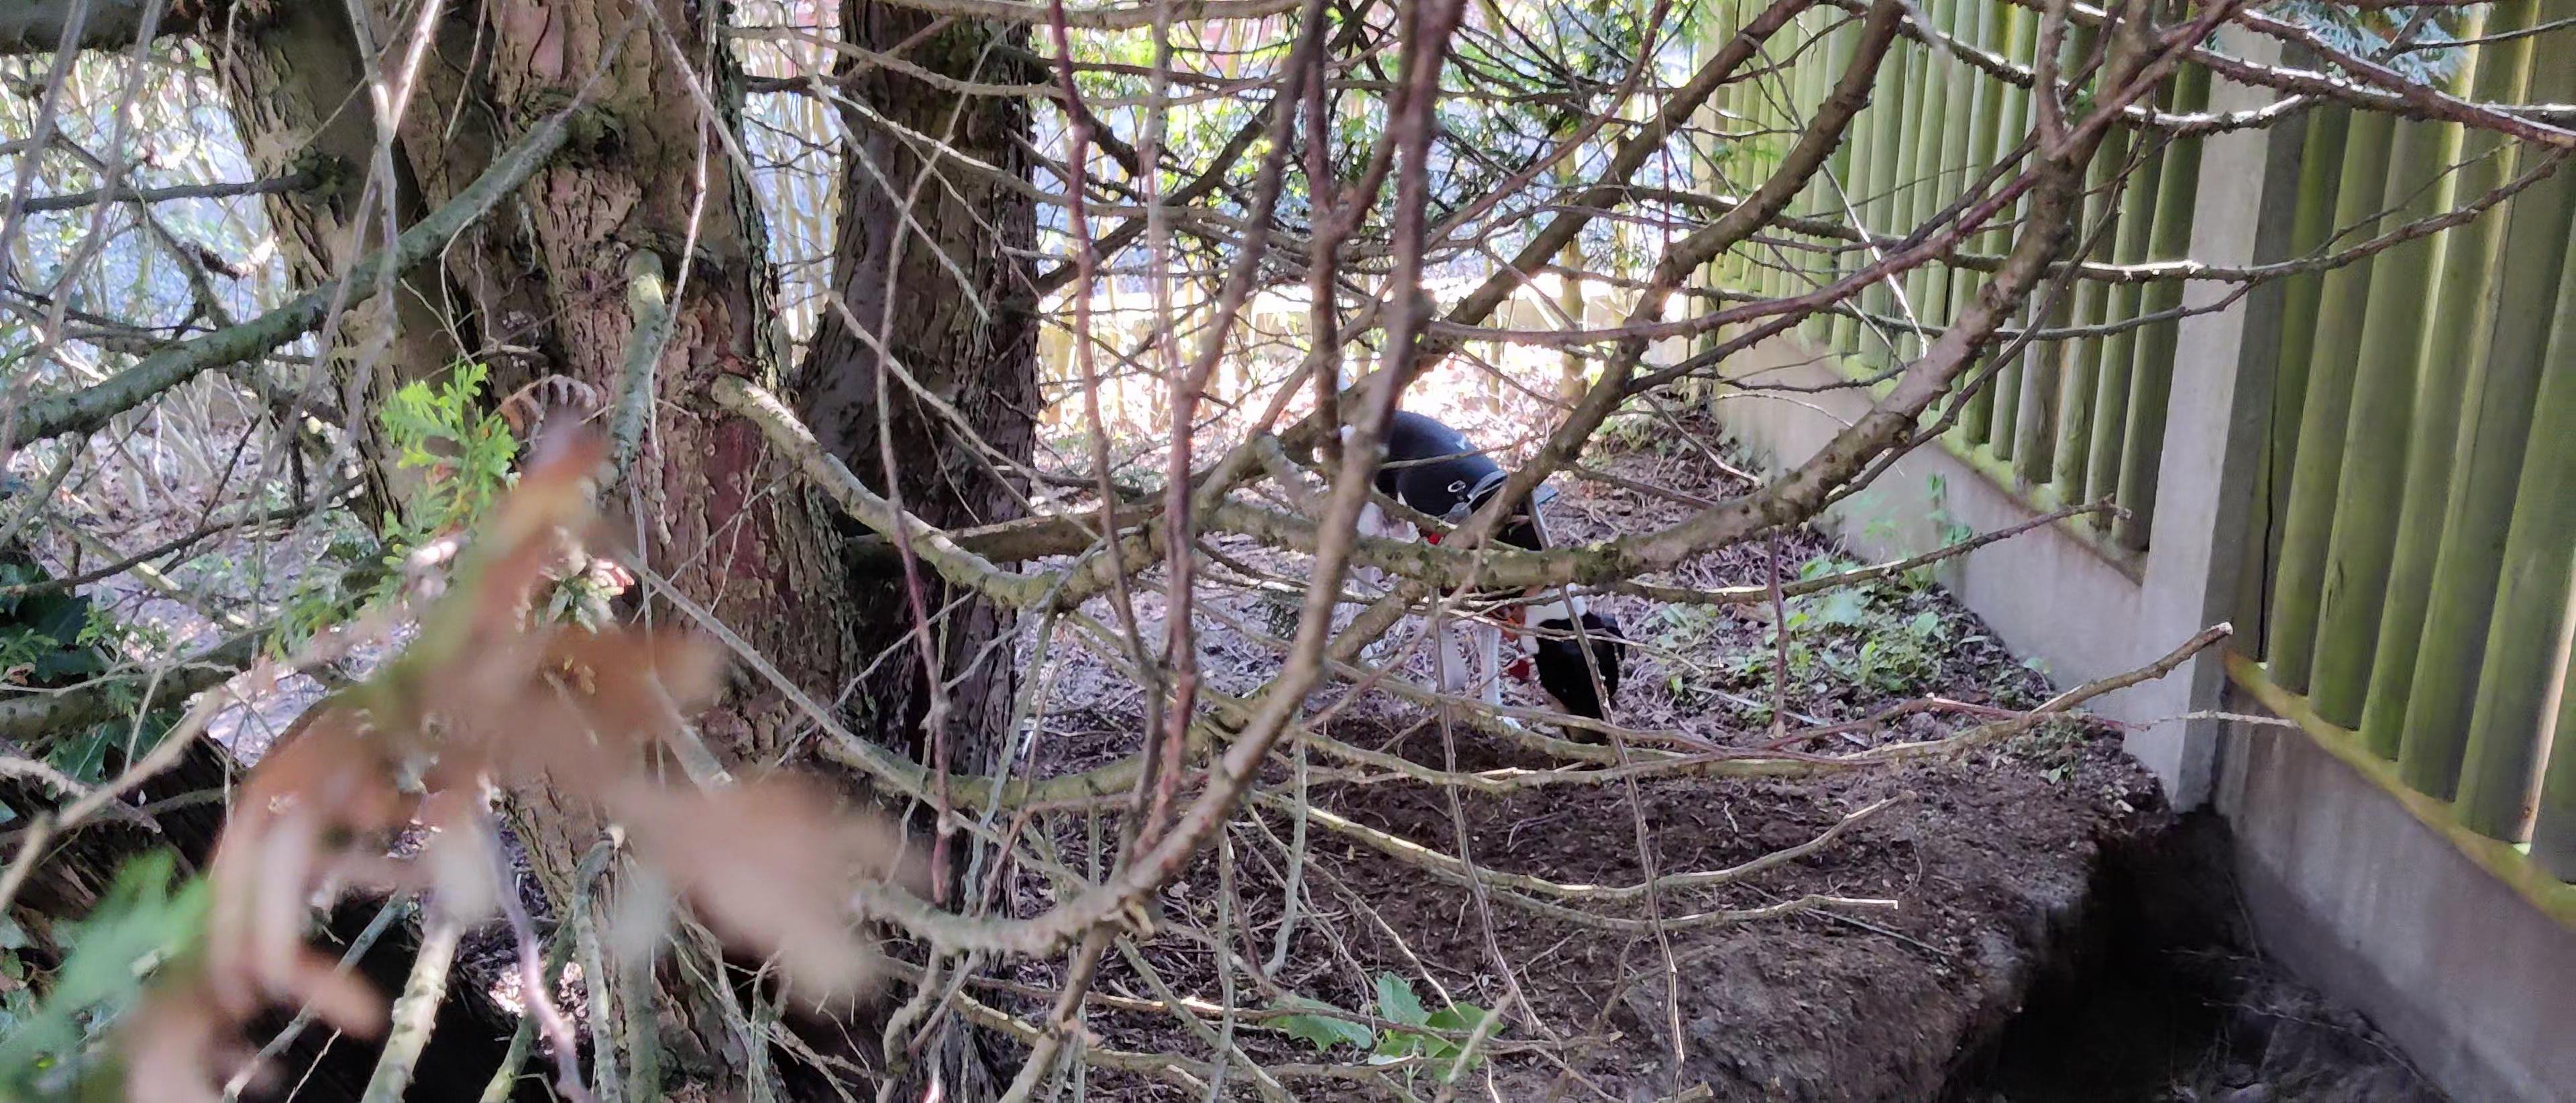Dog: (1299, 344, 1641, 771)
